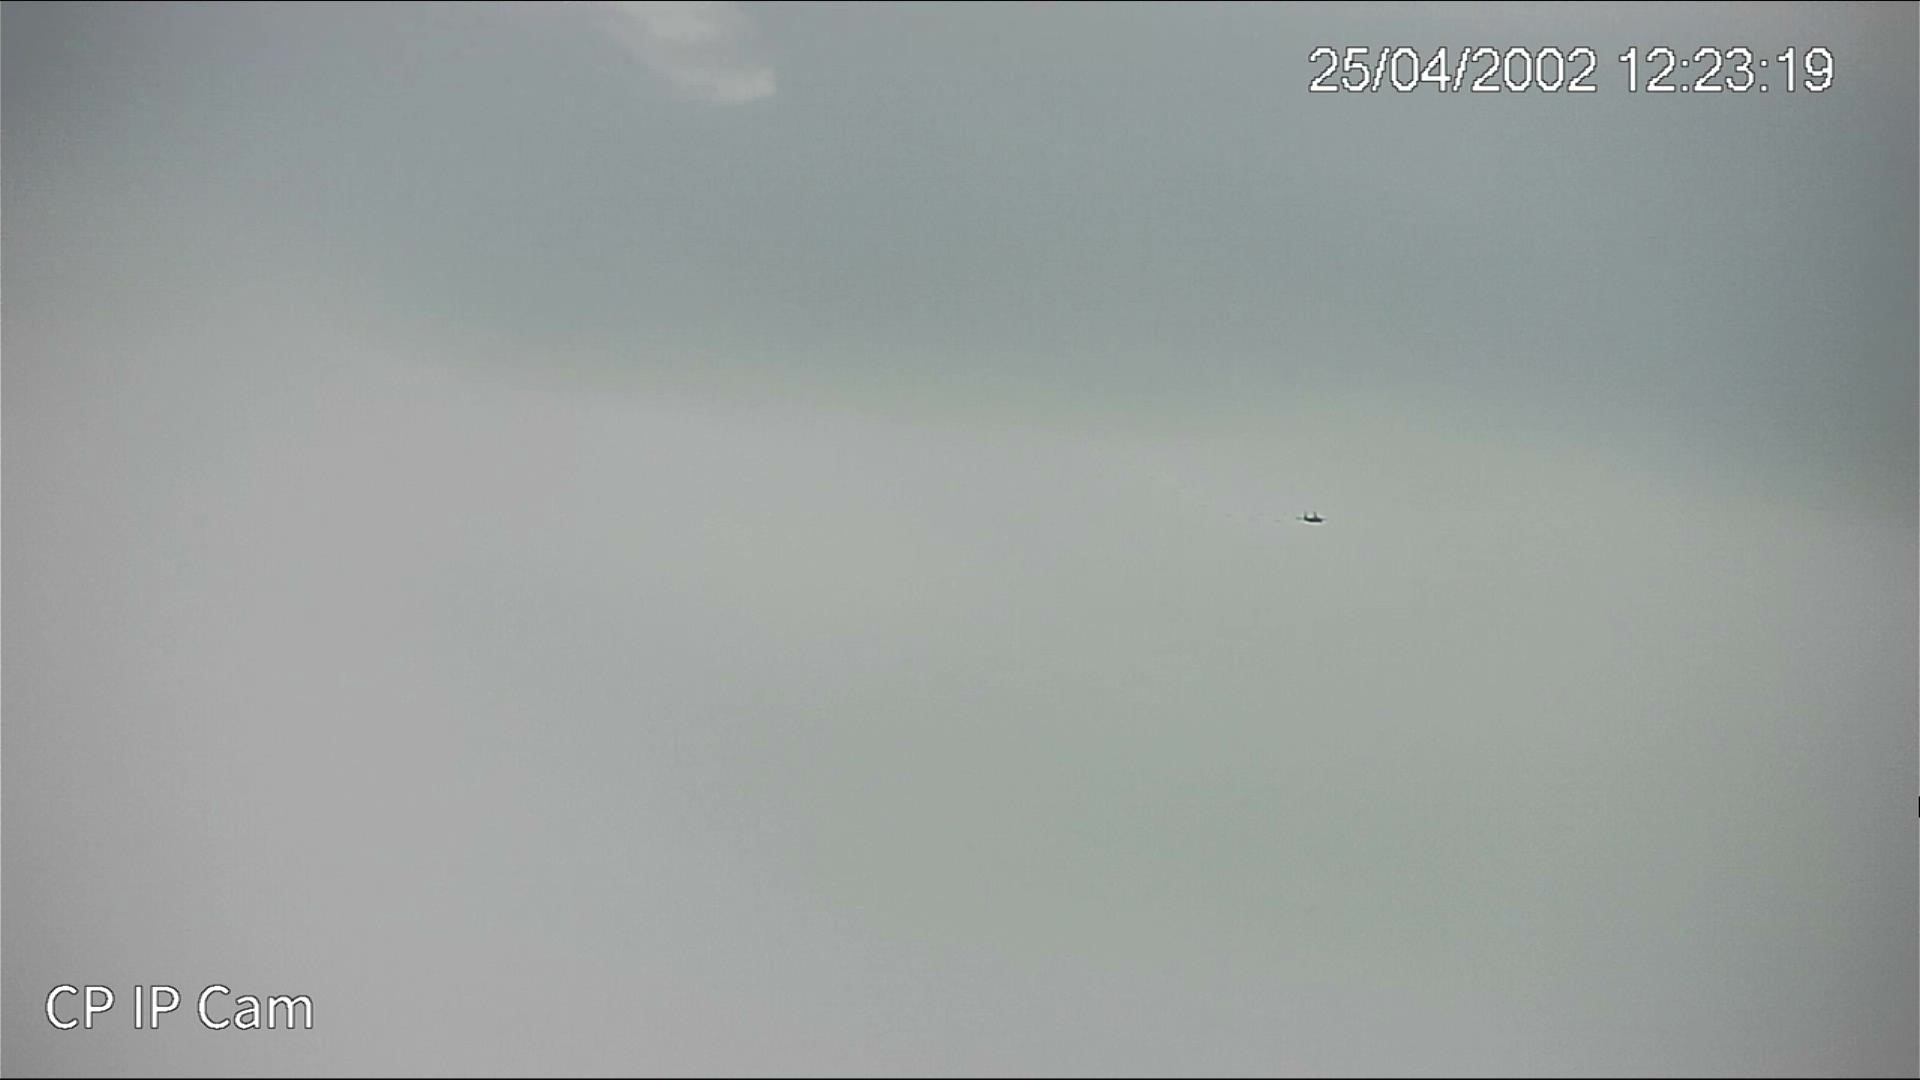SU_30: (1292, 509, 1328, 527)
